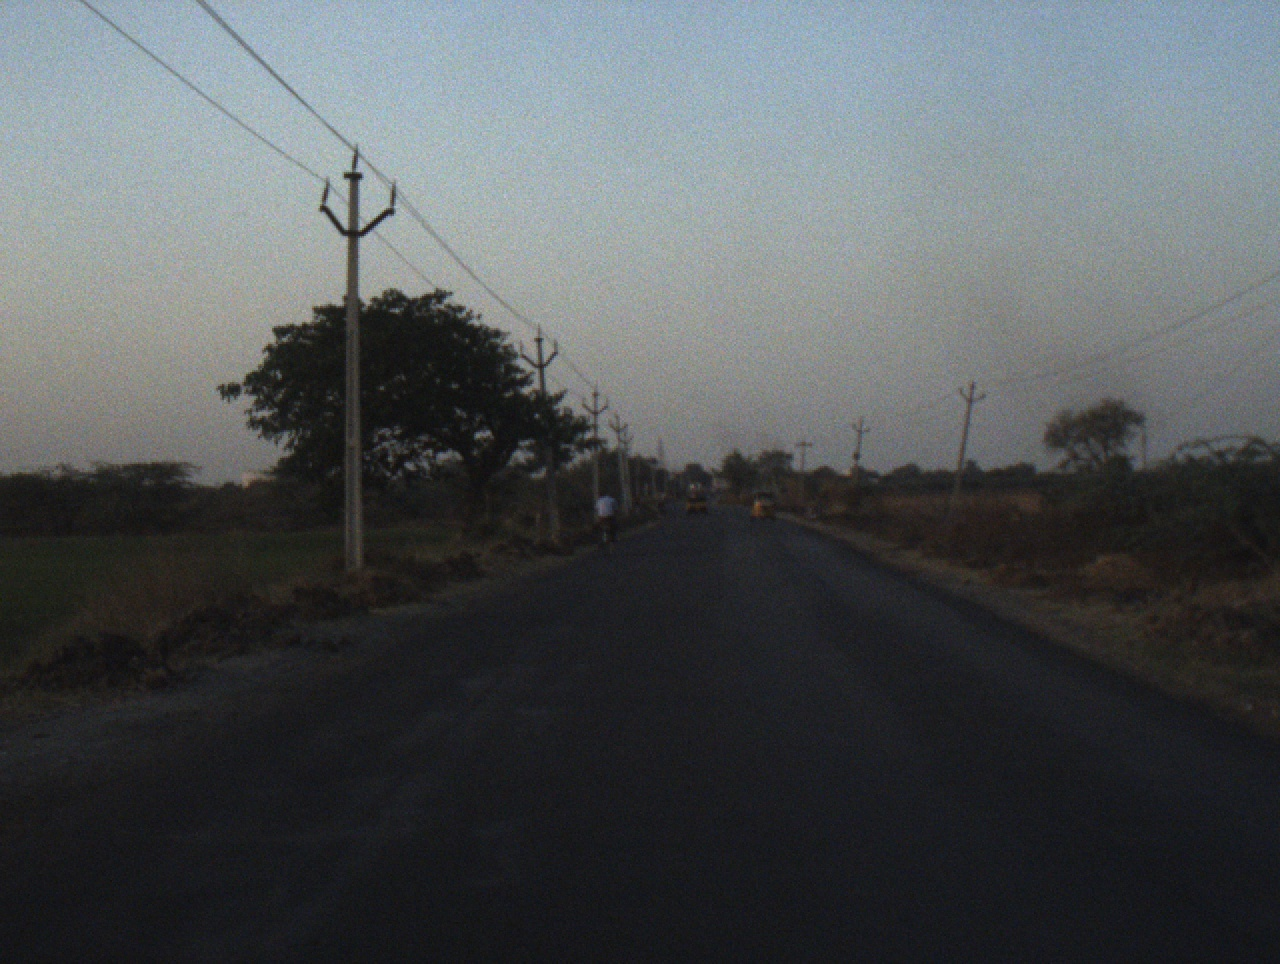autorickshaw: (682, 479, 711, 515), (747, 488, 777, 523)
bicycle: (599, 525, 613, 557)
rider: (592, 491, 619, 545)
